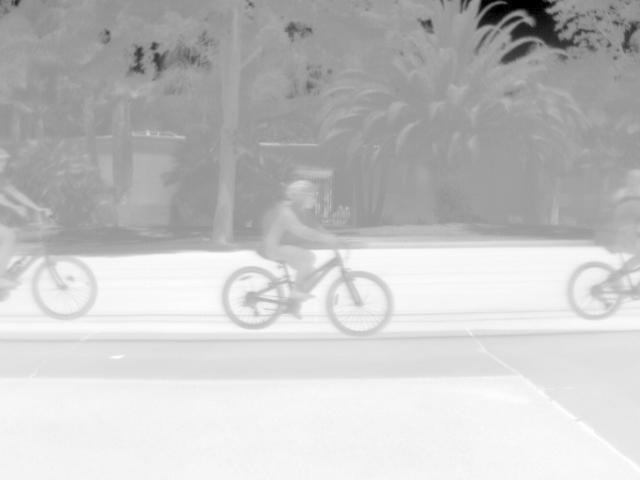person: (252, 177, 347, 323), (595, 167, 639, 301), (0, 147, 56, 220)
